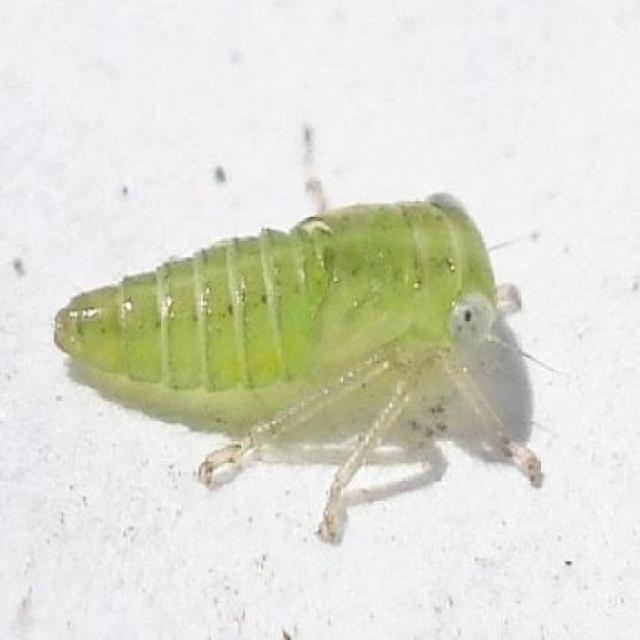green-leafhopper: (49, 191, 546, 547)
